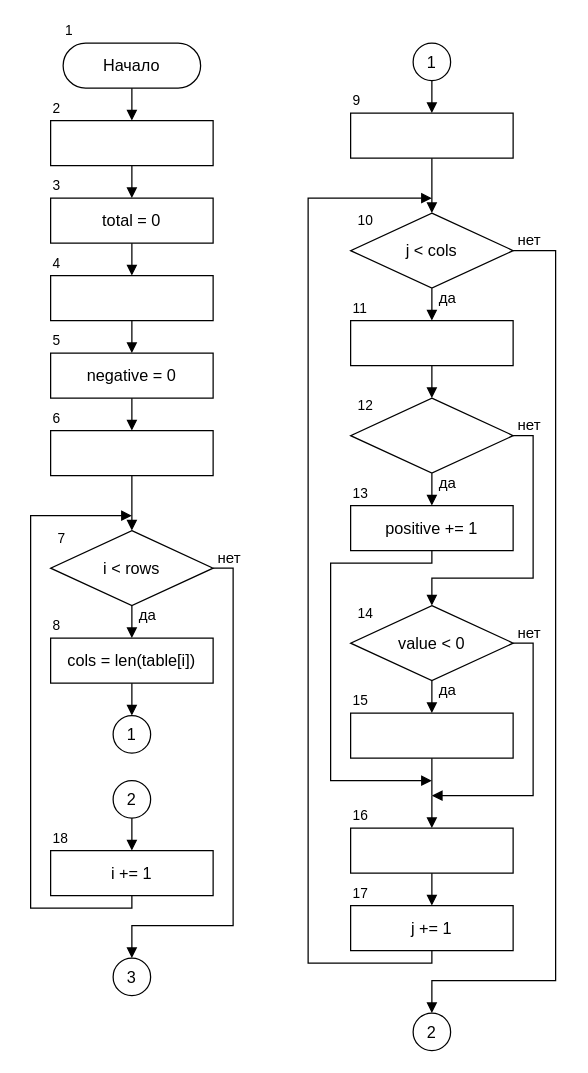
Image size: 588x1073. Some labels were removed from this diagram. The box of each missing label's shape, as (x1, y1, x2, y2) in pixels:
i = 0: (49, 429, 213, 476)
j = 0: (349, 112, 513, 158)
negative += 1: (349, 712, 513, 758)
positive = 0: (49, 274, 213, 321)
rows = len(table): (49, 119, 213, 166)
total += value: (349, 827, 513, 873)
value = table[i][j]: (349, 319, 513, 366)
value > 0: (349, 397, 513, 473)
